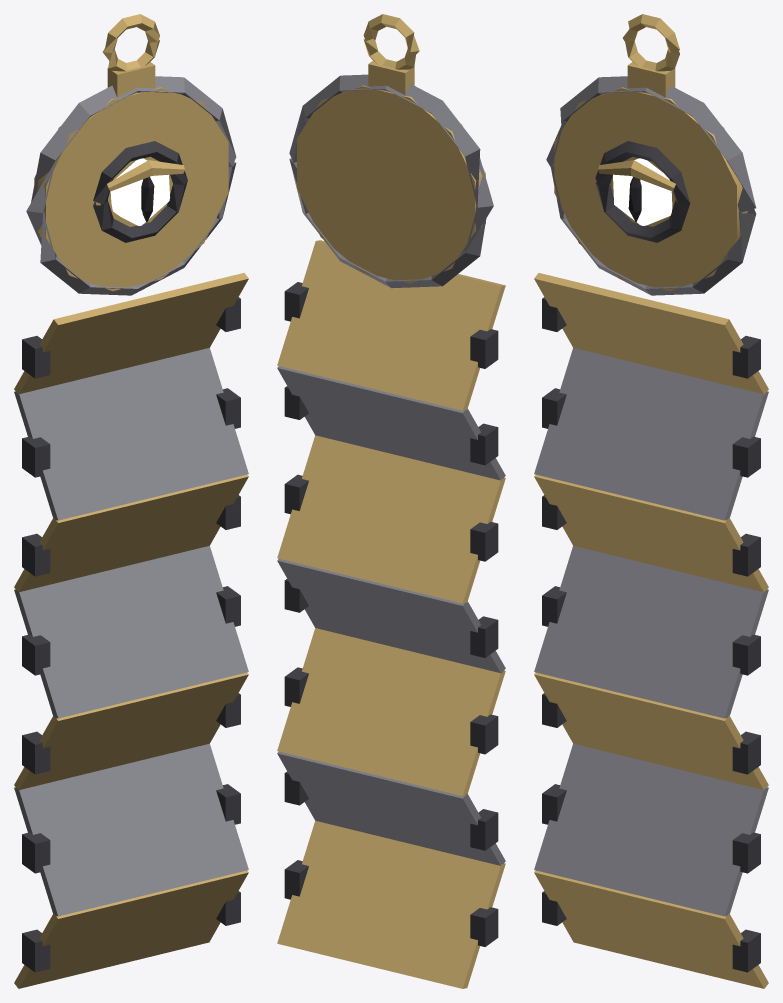
The model's file is astrolabe-line-almanac.glb.
3 renders of one model, left to right at view 1: azimuth 30°, elevation 25°; view 2: azimuth 150°, elevation 25°; view 3: azimuth 330°, elevation 25°, orthographic. The views are drawn at different scales.
Parts seen in each view (by area): view 1: astrolabe_line_almanac; view 2: astrolabe_line_almanac; view 3: astrolabe_line_almanac.
Part boxes in pixels (left/top/right/bottom): astrolabe_line_almanac: left=14, top=14, right=248, bottom=988; astrolabe_line_almanac: left=277, top=14, right=505, bottom=988; astrolabe_line_almanac: left=534, top=14, right=768, bottom=988.
Size of the model in its own units: 0.1775 by 0.7768 by 0.0648.
